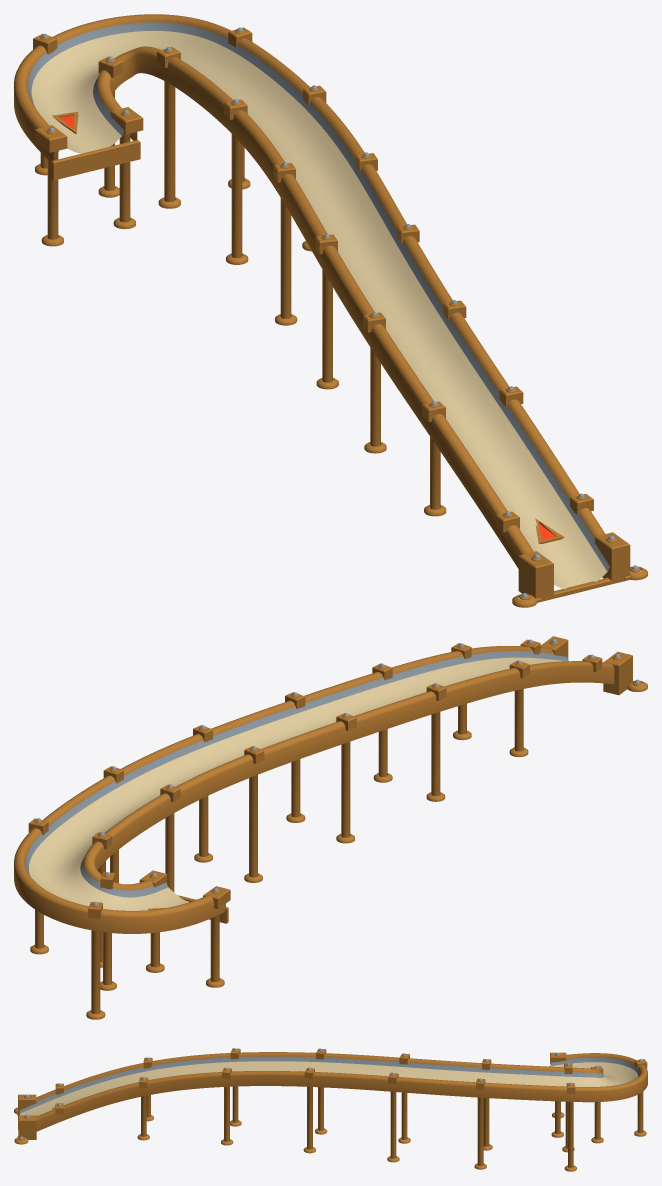
File: aurora-rampR.dae
The picture shows the model from 3 angles, top to bottom: view 1: azimuth 30°, elevation 25°; view 2: azimuth 150°, elevation 25°; view 3: azimuth 270°, elevation 25°; orthographic projection. The views are drawn at different scales.
Visible parts, largest first — view 1: accent, ramp_floor, metal; view 2: accent, ramp_floor, metal; view 3: accent, ramp_floor, metal.
Boxes of the visible parts, <box> form: accent: <box>14,14,647,607</box>; ramp_floor: <box>31,30,607,589</box>; metal: <box>28,22,638,597</box>; accent: <box>14,636,647,1019</box>; ramp_floor: <box>29,657,565,910</box>; metal: <box>25,638,640,905</box>; accent: <box>14,1048,647,1171</box>; ramp_floor: <box>20,1061,638,1116</box>; metal: <box>19,1048,642,1138</box>.
Size of the model in its own units: 0.2906 by 0.1929 by 1.24.
